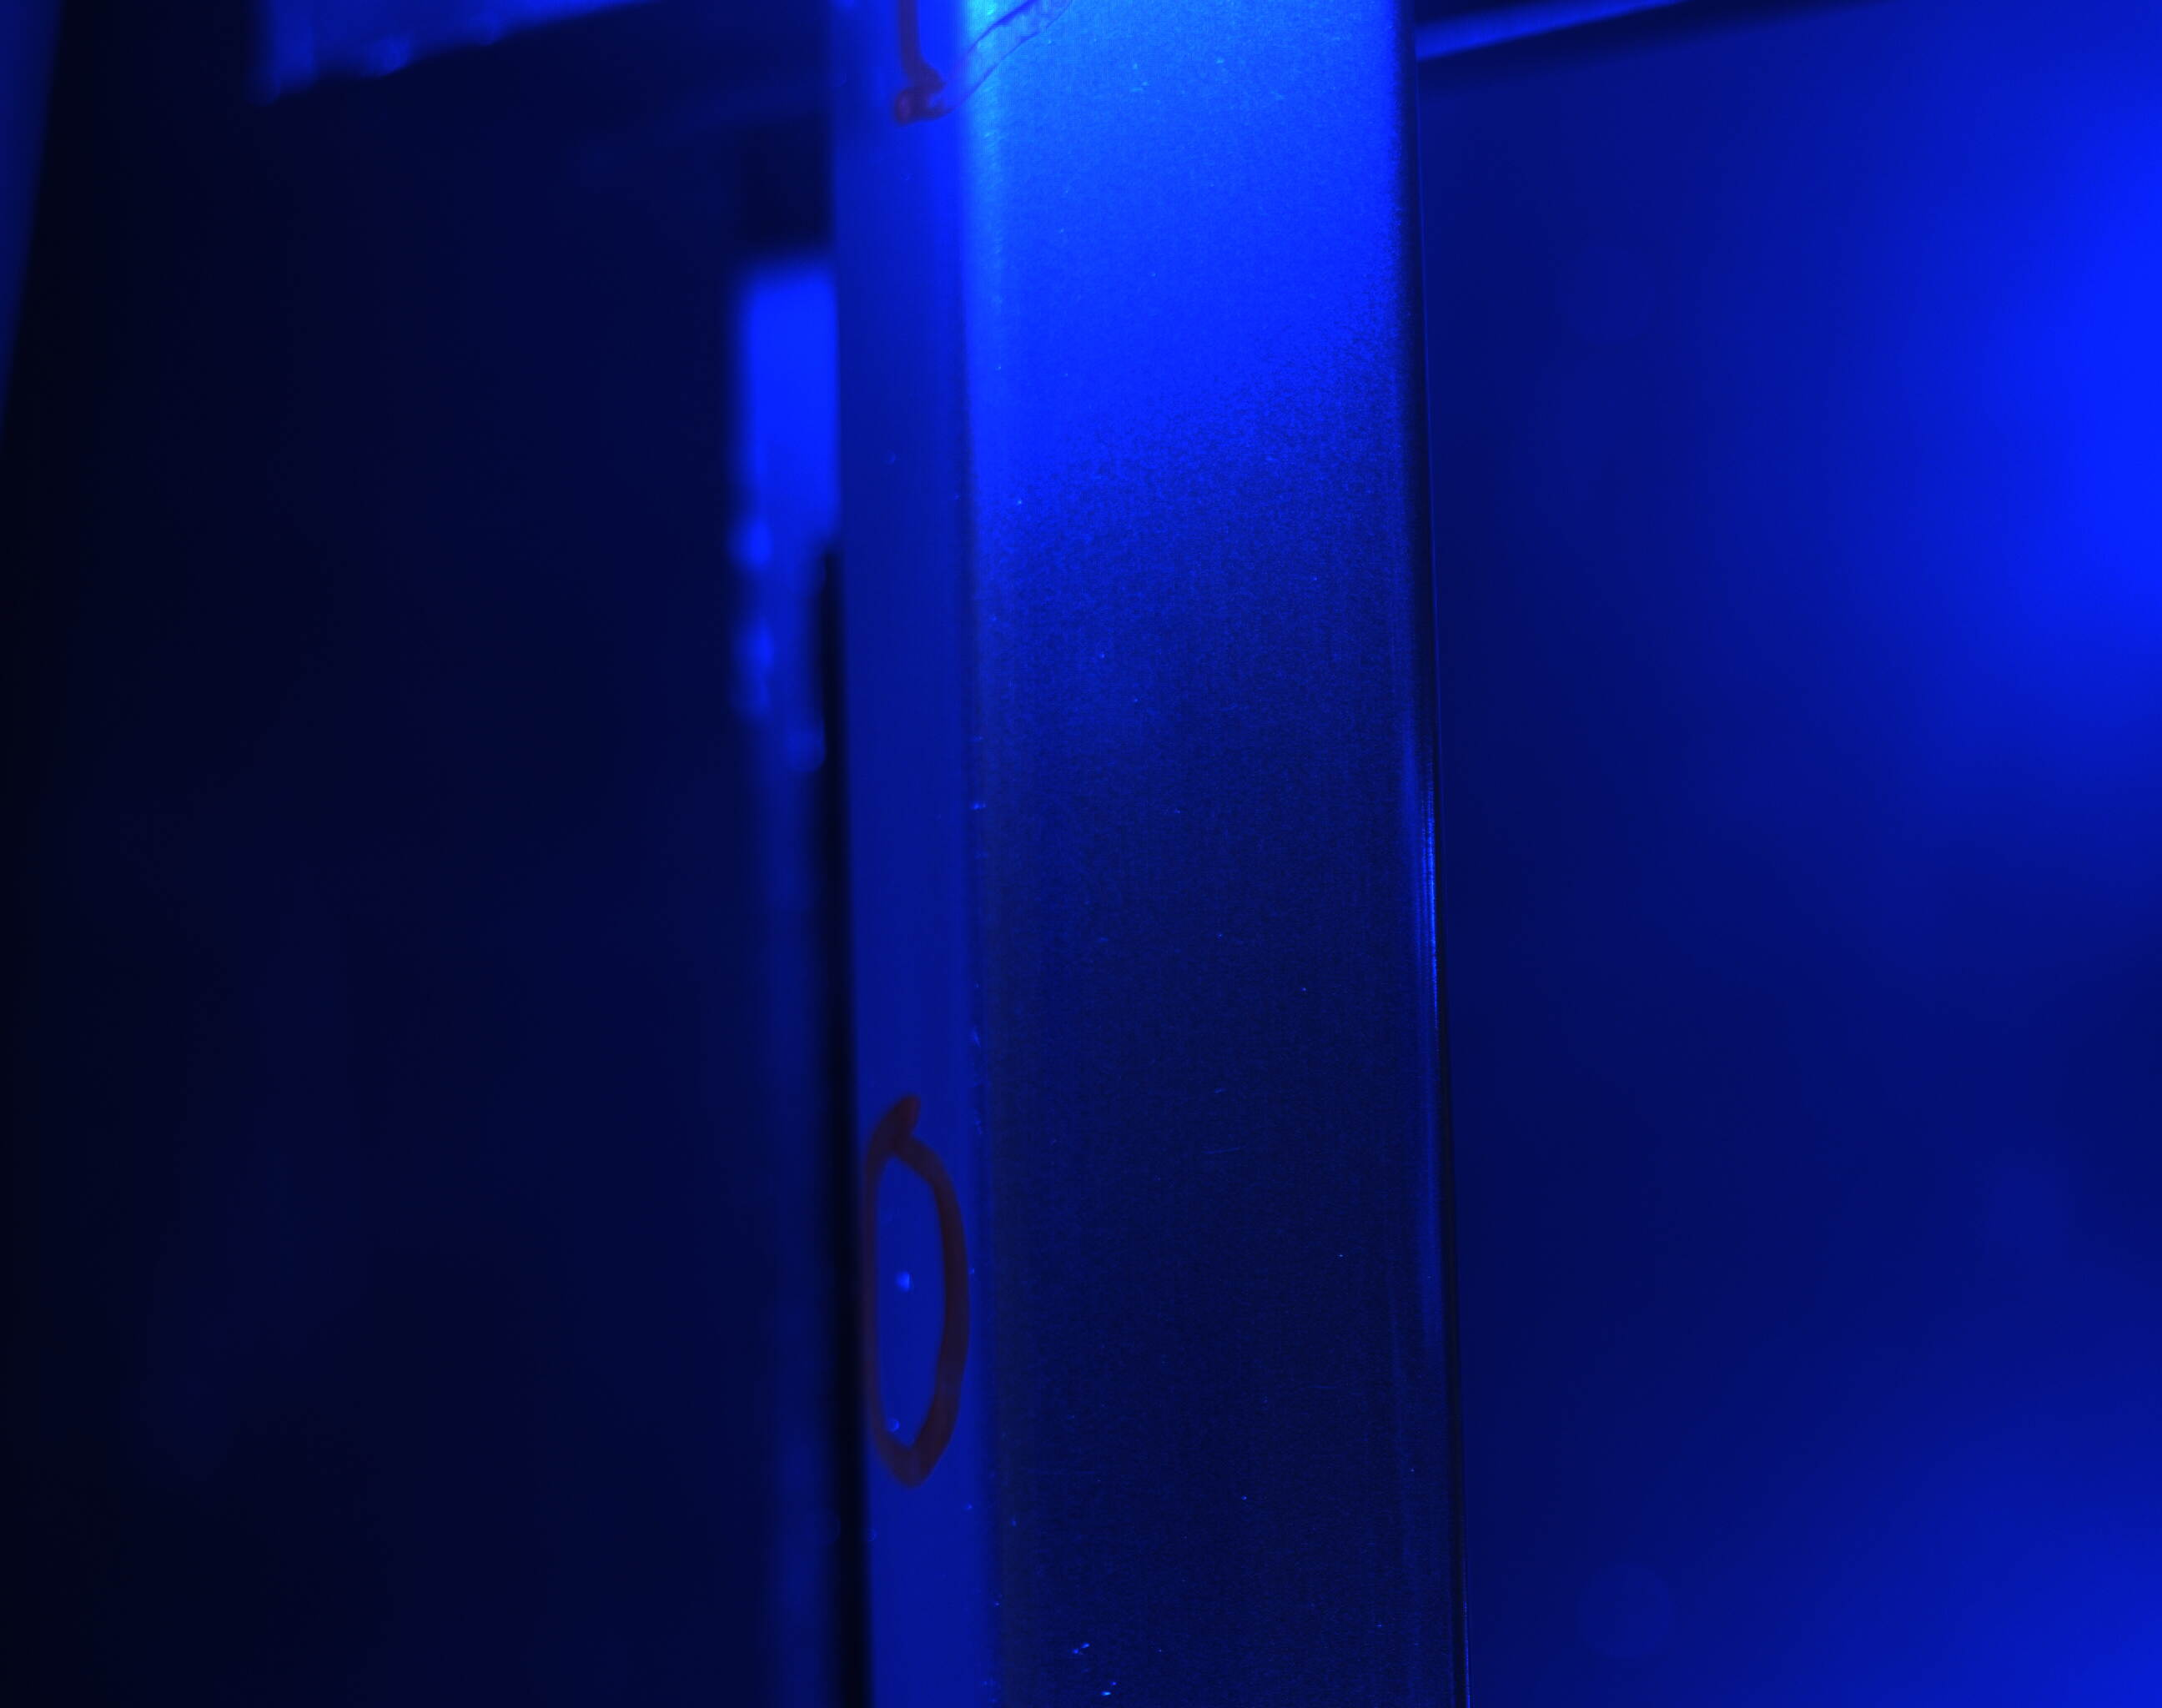NG: (884, 1245, 932, 1329)
